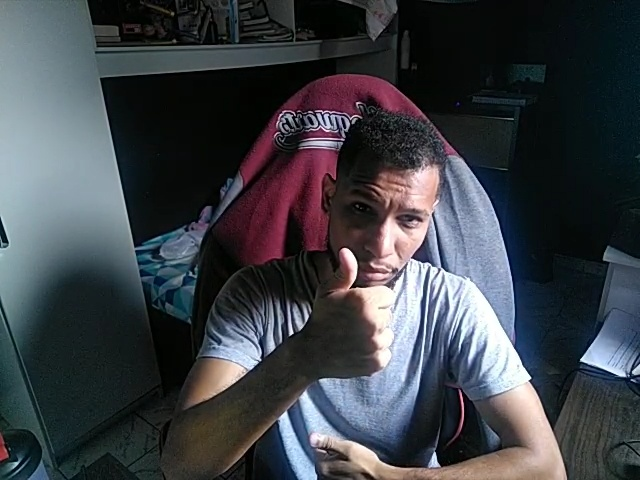sim: (301, 247, 397, 376), (304, 423, 385, 480)
